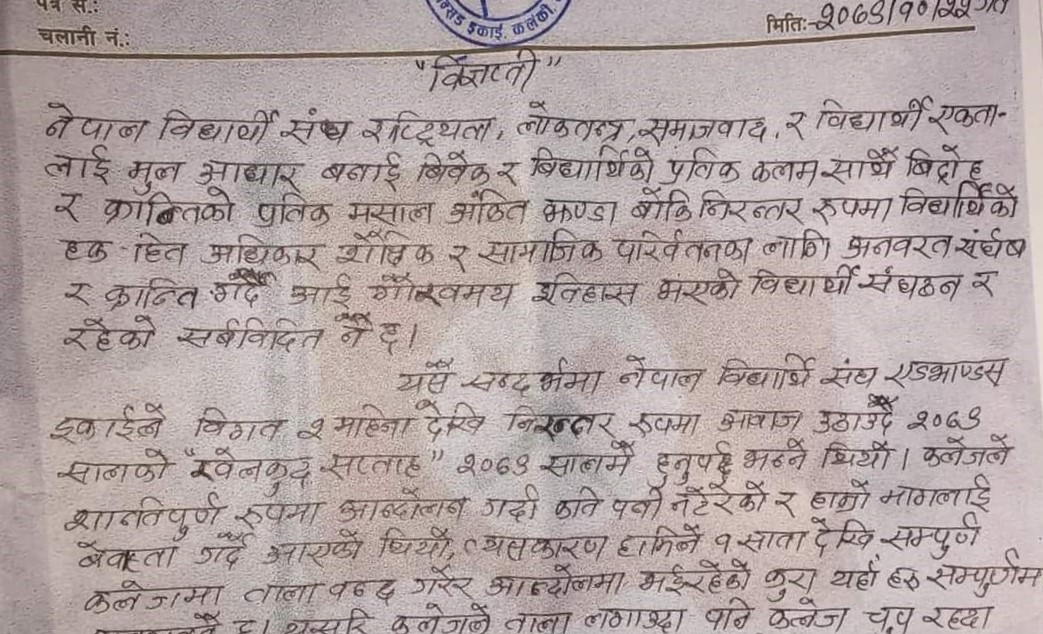text: (628, 182, 803, 228), (62, 492, 221, 537), (190, 444, 318, 495), (460, 355, 607, 399), (898, 176, 1024, 223), (171, 316, 326, 354), (613, 227, 754, 268), (47, 397, 166, 445), (481, 560, 626, 599), (476, 226, 607, 269), (878, 509, 984, 562), (100, 189, 240, 229), (371, 271, 517, 309), (530, 141, 658, 184), (157, 106, 281, 149), (515, 97, 626, 145), (79, 579, 226, 614), (53, 444, 174, 486), (358, 108, 495, 145), (40, 99, 150, 144), (710, 348, 817, 394), (458, 532, 611, 564), (334, 487, 469, 523), (201, 229, 319, 270), (429, 49, 541, 92), (529, 271, 642, 312), (877, 469, 990, 510), (814, 95, 929, 135), (240, 578, 403, 606), (926, 560, 1043, 599), (259, 528, 364, 571), (332, 228, 436, 271), (636, 559, 754, 596), (640, 112, 771, 145), (505, 401, 617, 439), (859, 263, 961, 304), (72, 537, 180, 575), (191, 401, 285, 444), (538, 438, 636, 479), (615, 353, 708, 396), (881, 357, 1008, 388), (648, 439, 735, 484), (318, 446, 426, 482), (102, 275, 199, 314), (317, 147, 407, 189), (668, 482, 772, 518), (656, 266, 744, 308), (61, 317, 160, 354), (839, 230, 953, 262), (750, 263, 857, 297), (445, 186, 531, 228), (813, 395, 896, 438), (902, 142, 989, 183), (332, 400, 413, 444), (387, 601, 495, 634), (920, 435, 1015, 472), (194, 157, 299, 189), (581, 603, 688, 634), (616, 523, 707, 559), (667, 144, 743, 187), (414, 397, 490, 439), (818, 435, 895, 476), (282, 107, 354, 150), (255, 191, 335, 229), (819, 147, 899, 185), (952, 224, 1031, 262), (42, 142, 113, 184), (376, 523, 450, 563), (414, 150, 493, 187), (809, 192, 894, 226), (809, 512, 874, 555), (740, 434, 813, 472), (760, 226, 833, 263), (767, 601, 848, 634), (231, 499, 323, 528), (924, 101, 1001, 135), (288, 271, 355, 310), (453, 450, 537, 481), (713, 406, 807, 433), (347, 197, 437, 225), (807, 476, 872, 514), (480, 485, 543, 524), (540, 194, 619, 225), (626, 405, 702, 437), (760, 562, 820, 602), (193, 531, 254, 570), (817, 356, 882, 392), (735, 524, 807, 556), (129, 232, 189, 270), (394, 359, 453, 397), (905, 404, 985, 432), (823, 555, 881, 593), (748, 158, 821, 188), (701, 594, 755, 634), (406, 566, 474, 597), (609, 485, 665, 522), (923, 606, 997, 634), (551, 483, 603, 522), (329, 309, 376, 352), (129, 156, 180, 193), (61, 234, 113, 268), (862, 604, 919, 634), (503, 611, 572, 634), (50, 187, 91, 225), (886, 561, 921, 596), (376, 318, 405, 359), (294, 414, 328, 445), (61, 278, 93, 309), (444, 241, 474, 274), (969, 268, 999, 301), (773, 485, 800, 519), (782, 109, 807, 140), (495, 160, 523, 186)
